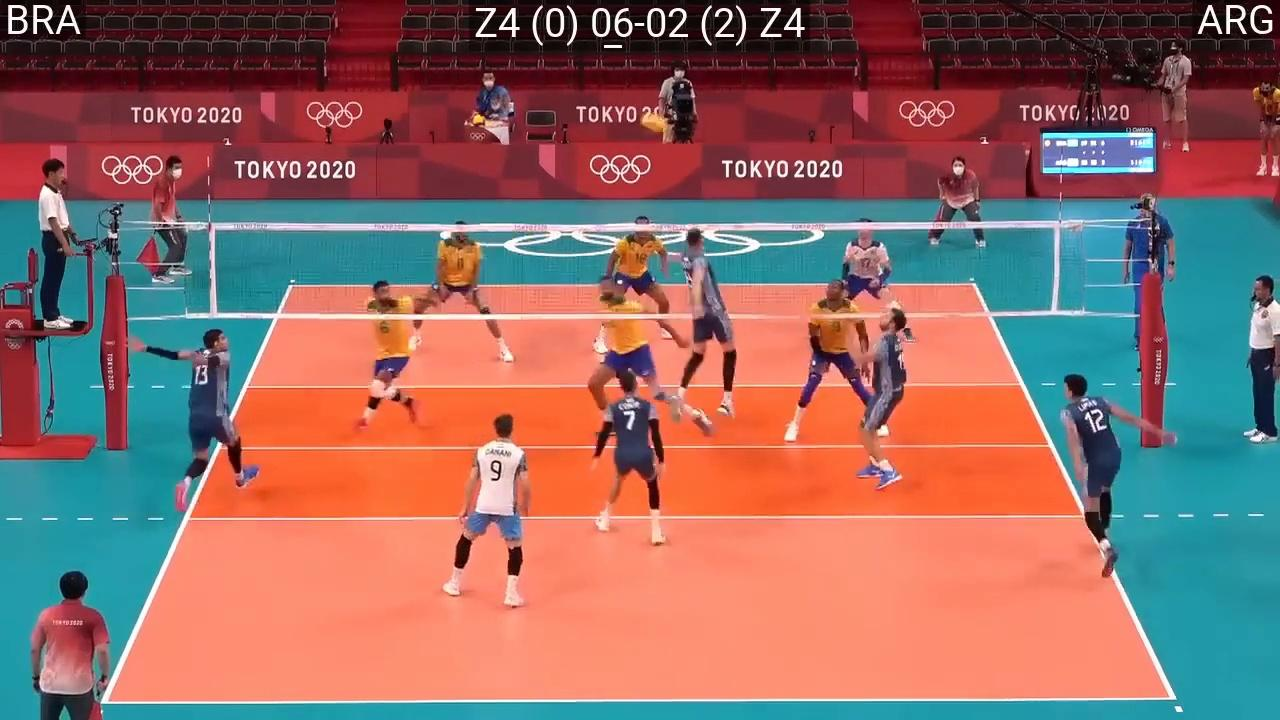ball: (641, 111, 671, 132)
